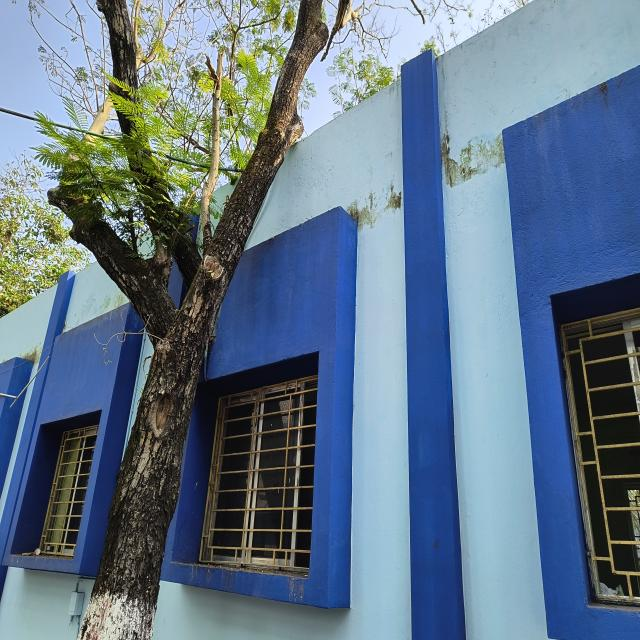pollution -moisture induced blackening: (440, 109, 508, 190), (344, 184, 403, 231), (98, 290, 129, 316), (15, 342, 42, 366), (62, 319, 68, 334)
